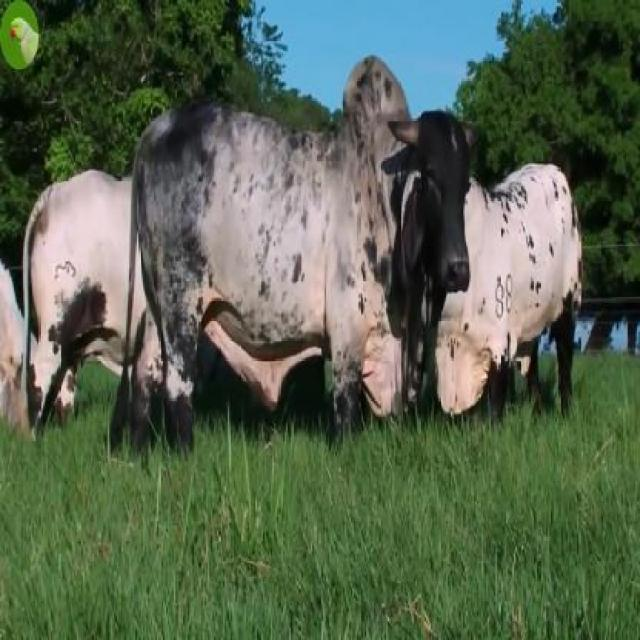Cow: (125, 112, 486, 466)
